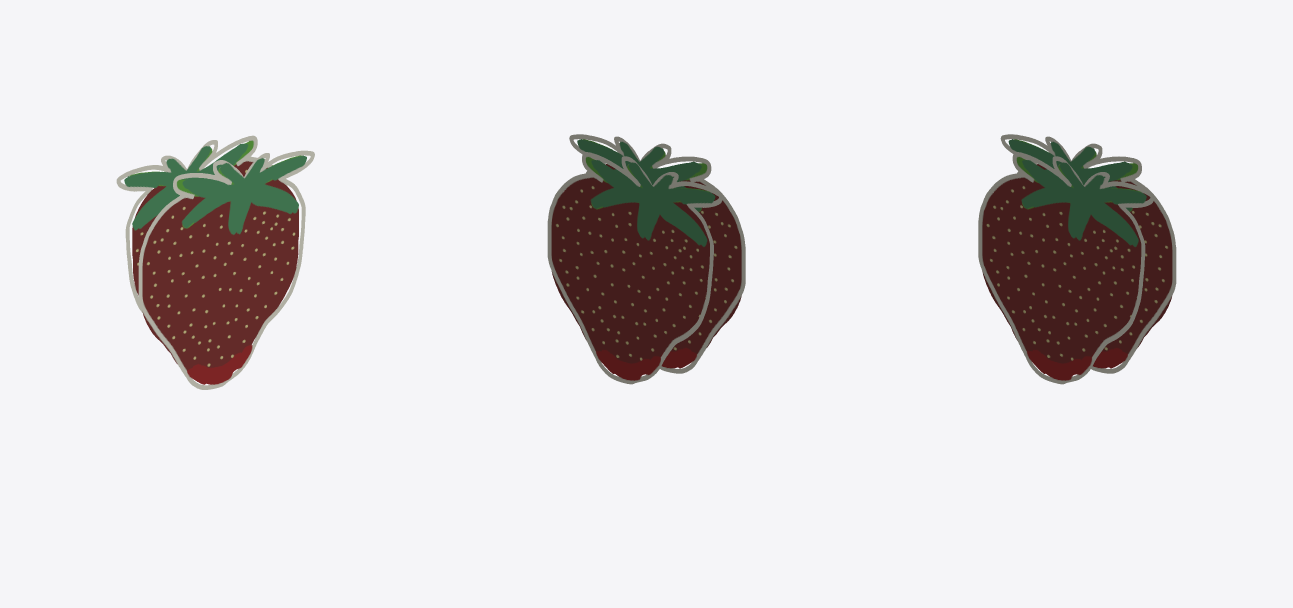
File: prodpin-erdbeere.fbx
3 views of the same model, side by side, from view 1: azimuth 30°, elevation 25°; view 2: azimuth 150°, elevation 25°; view 3: azimuth 330°, elevation 25° (orthographic).
Parts seen in each view (by area): view 1: ProdPIn; view 2: ProdPIn; view 3: ProdPIn.
Part boxes in pixels (bbox=[...]): ProdPIn: bbox=[116, 135, 314, 389]; ProdPIn: bbox=[547, 134, 745, 384]; ProdPIn: bbox=[978, 134, 1176, 384].
Bounding box in the file's own units: 200 × 268 × 20.35.
Materials: 1 (1 with a texture image).
